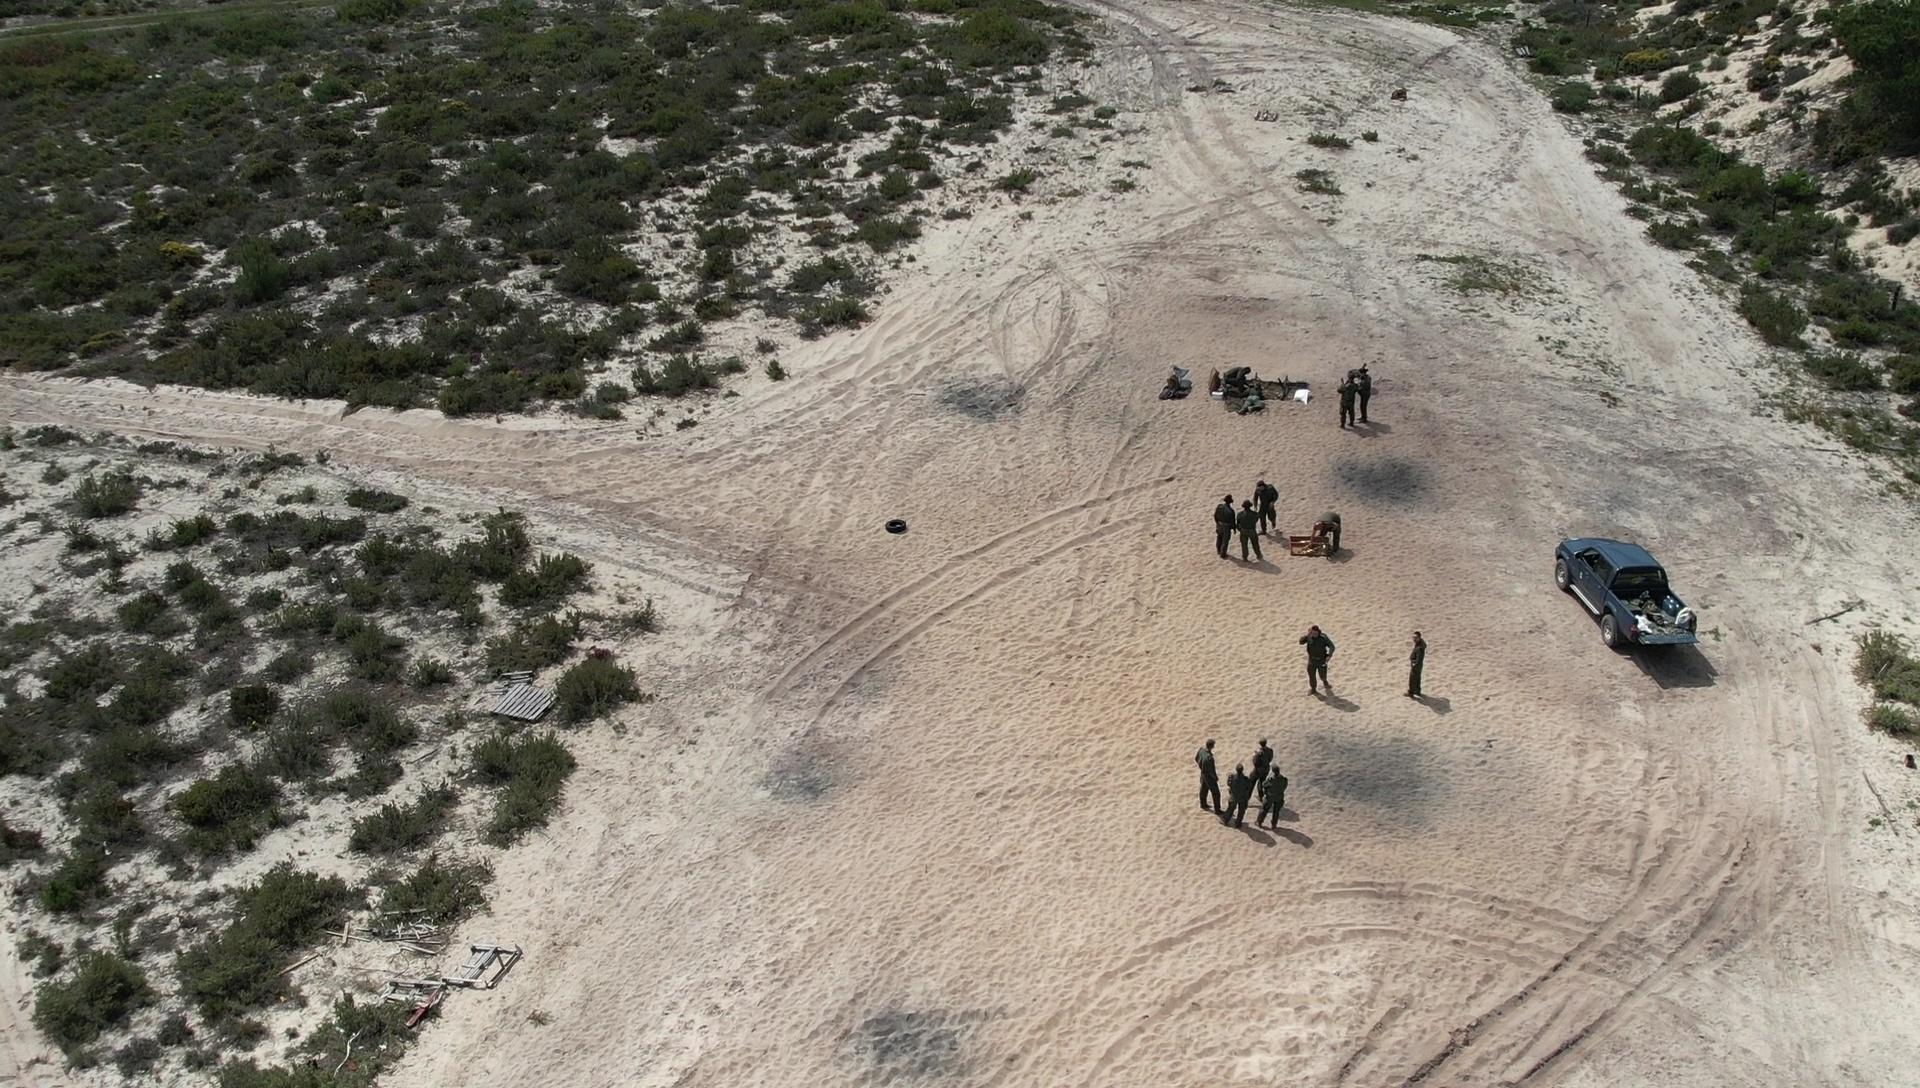Soldier: (1298, 616, 1341, 700), (1399, 622, 1433, 717), (1191, 735, 1225, 819), (1233, 499, 1265, 574), (1313, 502, 1352, 558), (1209, 481, 1236, 560), (1253, 471, 1283, 539), (1222, 761, 1251, 832), (1263, 756, 1288, 833), (1335, 367, 1360, 433), (1221, 348, 1255, 392), (1356, 363, 1378, 429), (1247, 728, 1269, 790), (1242, 377, 1269, 417)
